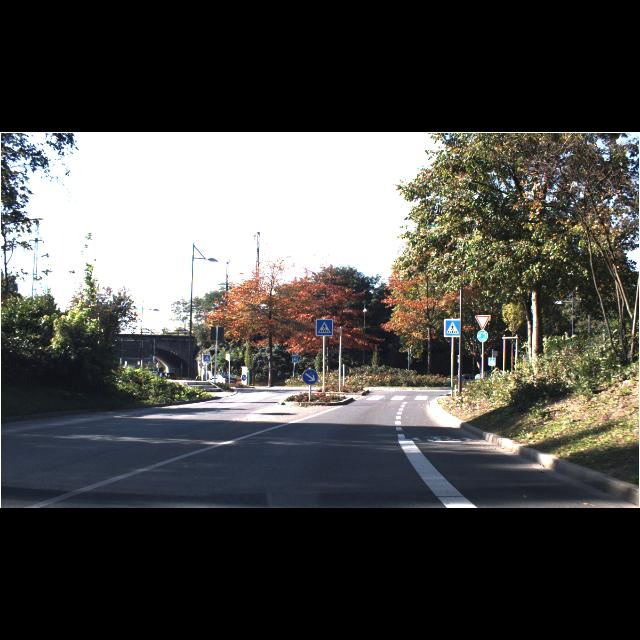mandatory: (302, 369, 318, 385), (477, 330, 488, 342)
other: (475, 315, 491, 331)
